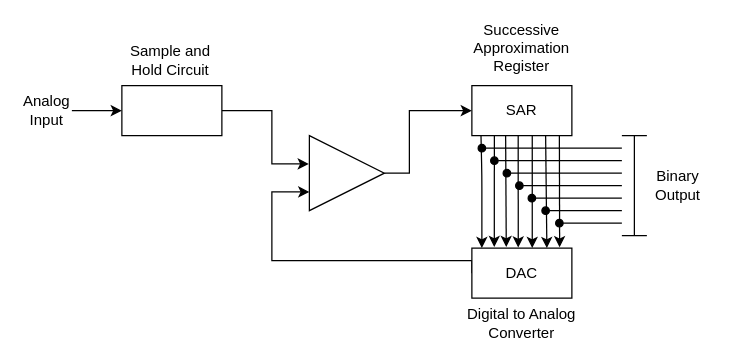
This 730x363 diagram has some shape labels left out. Each missing label, with the centre of its shape:
"Comparator" belongs at pixel 346 172.
"S/H" belongs at pixel 171 110.
